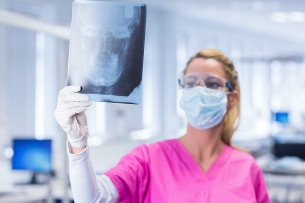Mask: (179, 75, 230, 127)
